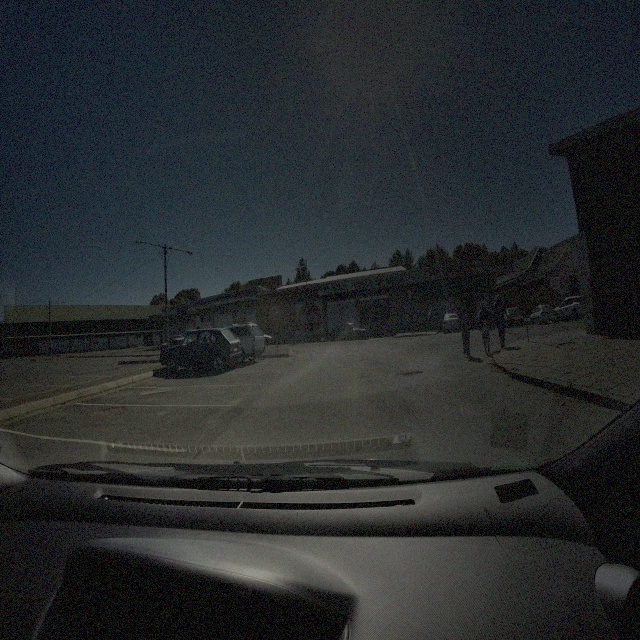pothole: (399, 368, 424, 378)
